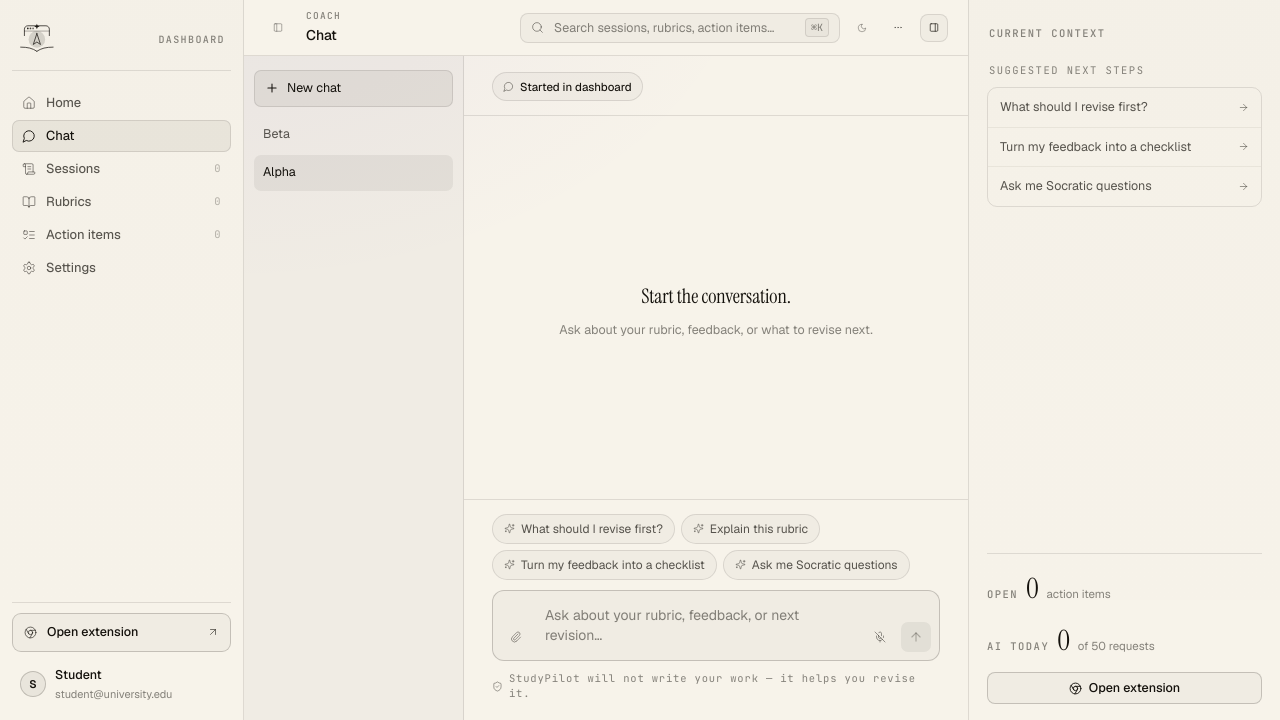
Dashboard cross-surface chat state › refreshes AI usage exactly once after a failed request
This screenshot has width=1280, height=720.
Type "Question A" into the text box with placeholder "Ask about your rubric, feedback, or next revision…".
click(698, 625); type("Question A")  # box [537,598,859,652]
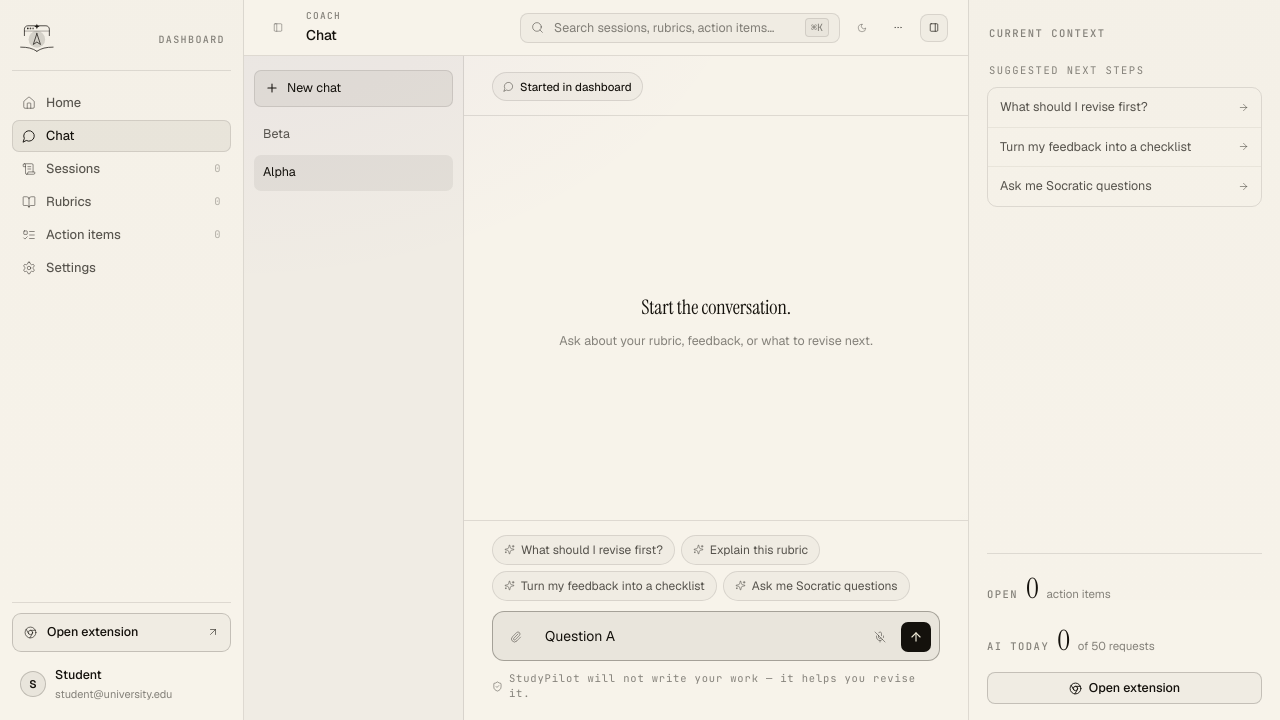
Click the button named "Send".
click(916, 636)  # box [901,622,931,652]
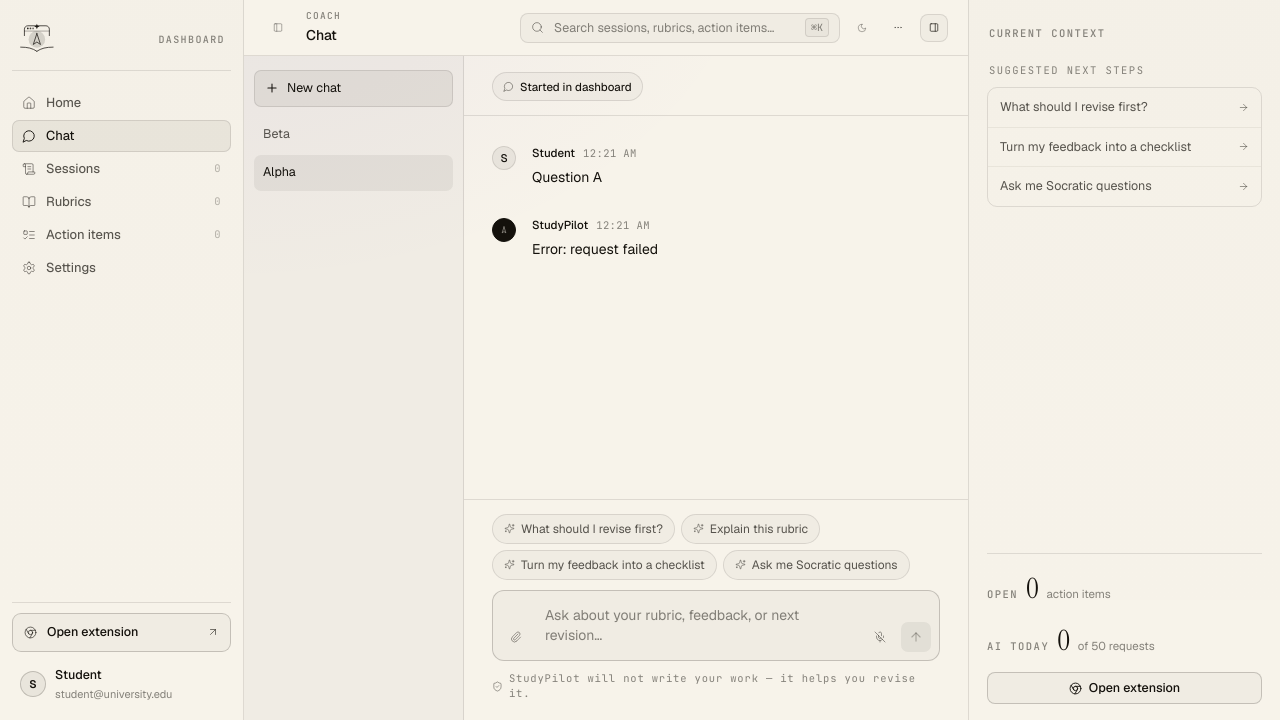
Expected: the text "Error: request failed" is shown, [532,240,658,258]
